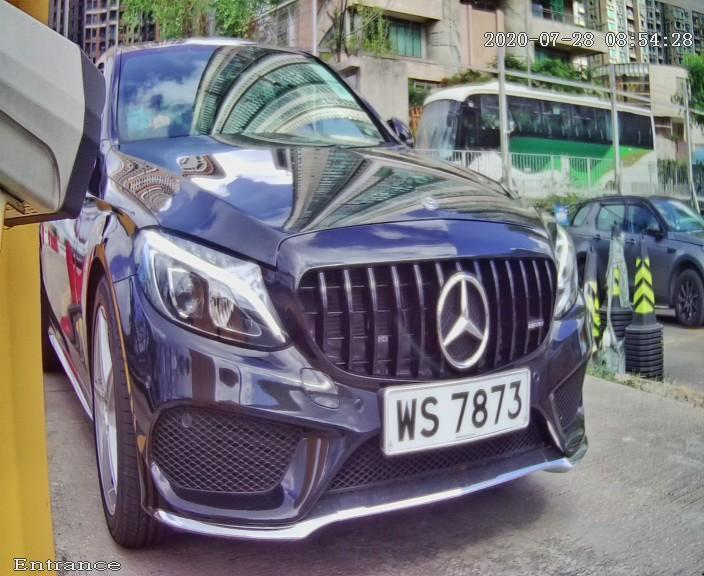privatecar: (4, 11, 683, 566)
